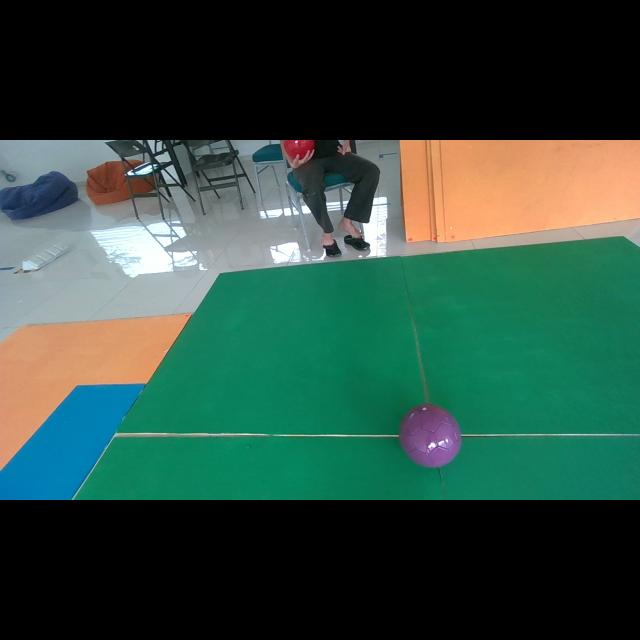P: (399, 404, 461, 468)
R: (284, 140, 315, 159)
